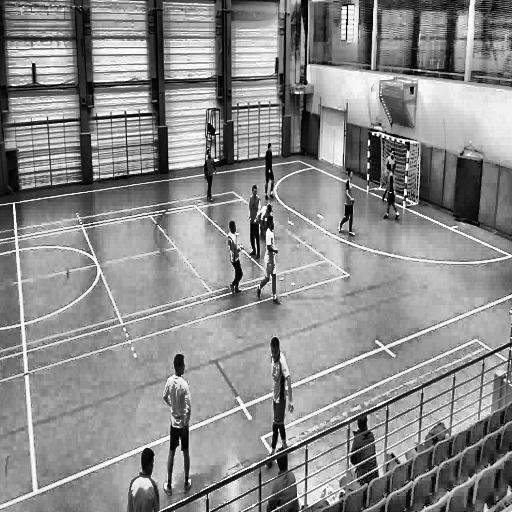player: (256, 215, 282, 307), (226, 219, 243, 298), (247, 184, 261, 260), (203, 148, 217, 206), (264, 140, 277, 202), (258, 202, 272, 239)
